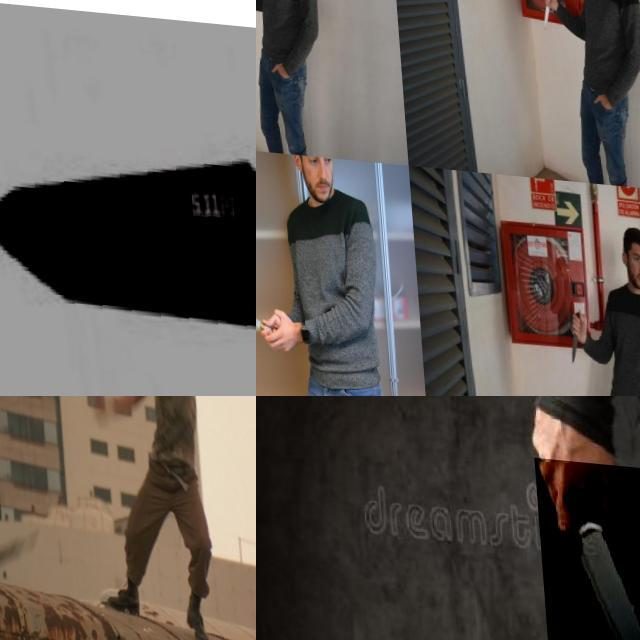-: (0, 0, 256, 396), (530, 450, 640, 640), (559, 296, 576, 356), (256, 304, 275, 332), (537, 0, 553, 26), (256, 0, 266, 15)
gun-knife-thesis - v11 Yolov5 augmented: (0, 396, 42, 466)
